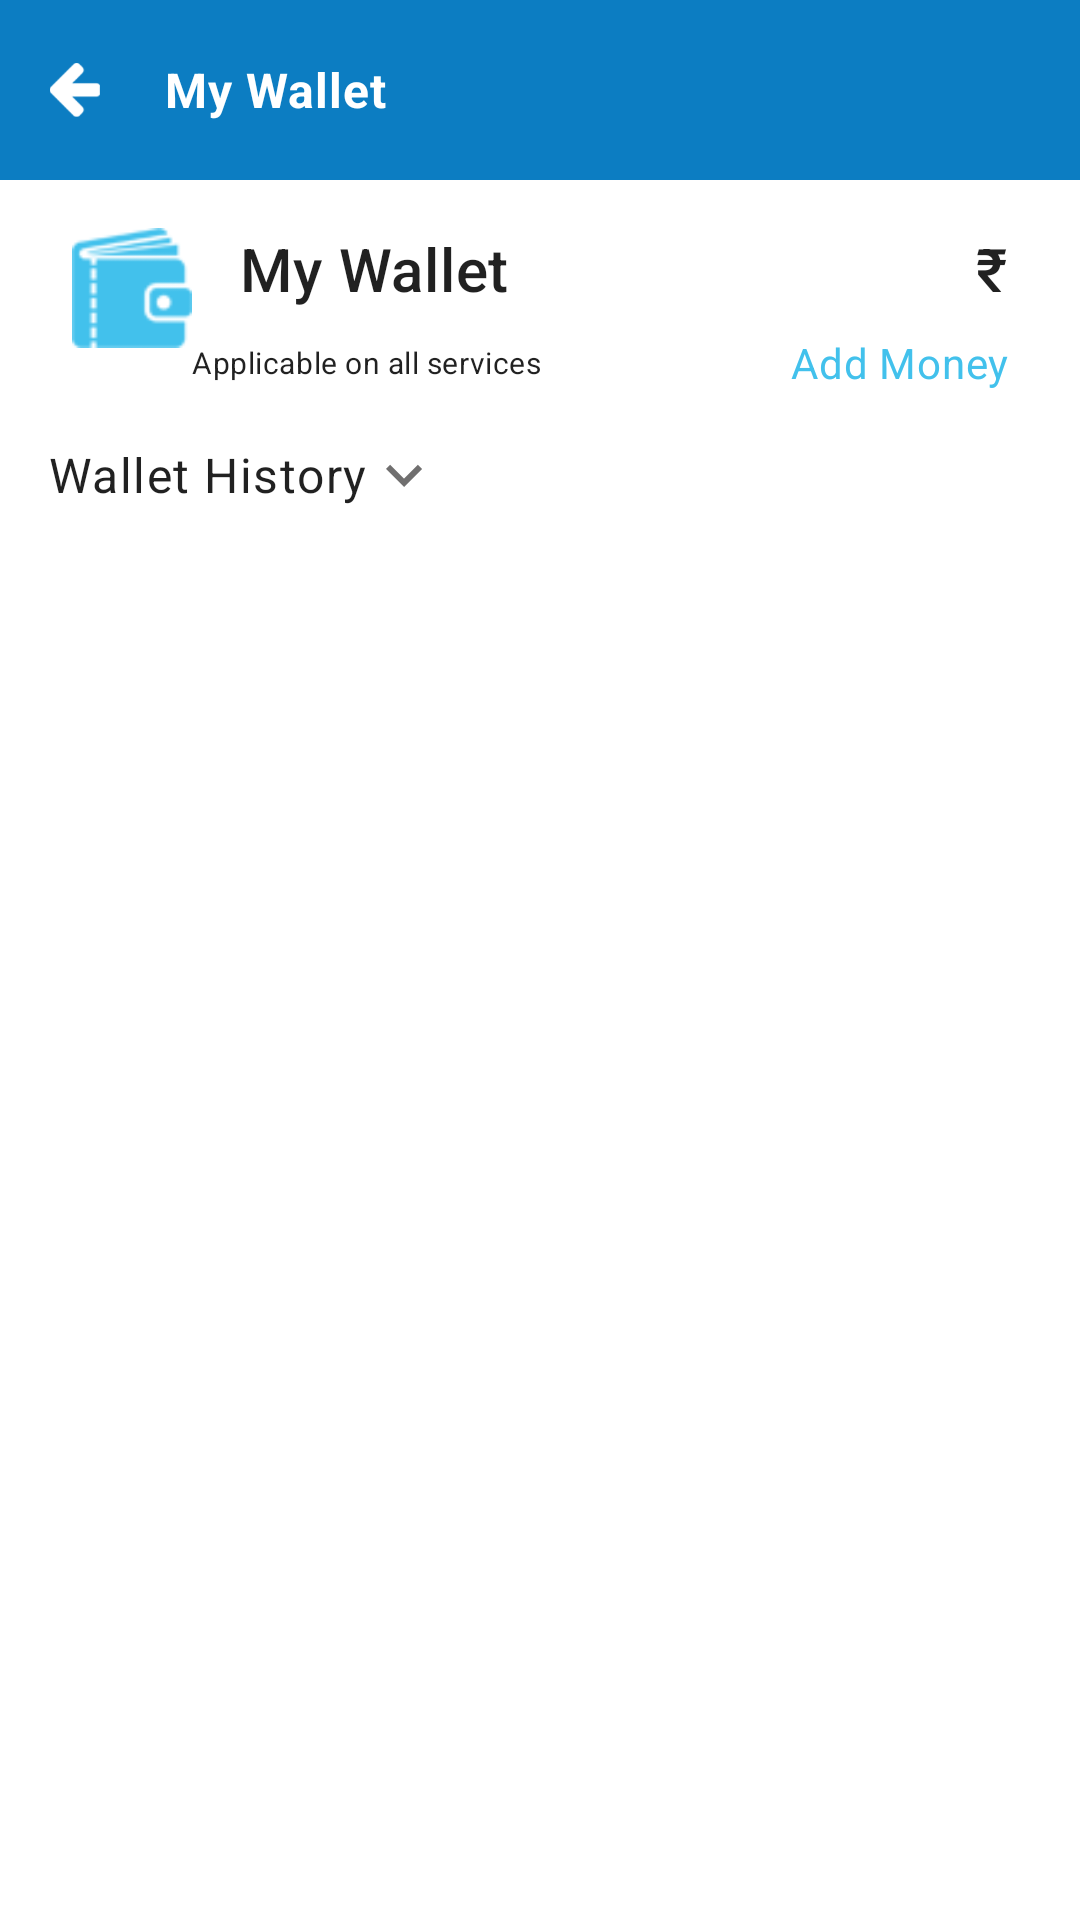

Locate icon controls on the screen. Image size 1080px×1920px, boxes as [x1,y1,x2,y2].
arrow down: [386,465,422,487]
leftarrow: [50,63,100,117]
